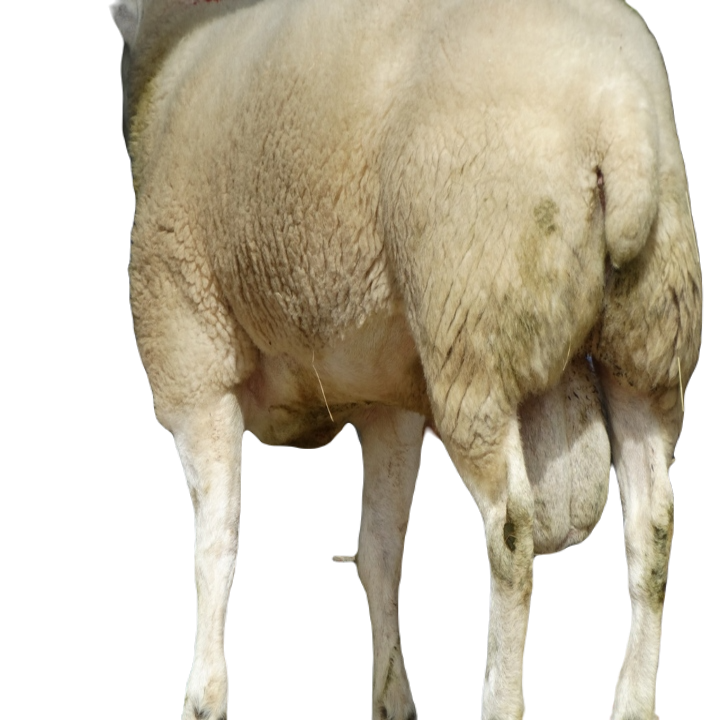Sheep: (102, 0, 719, 720)
